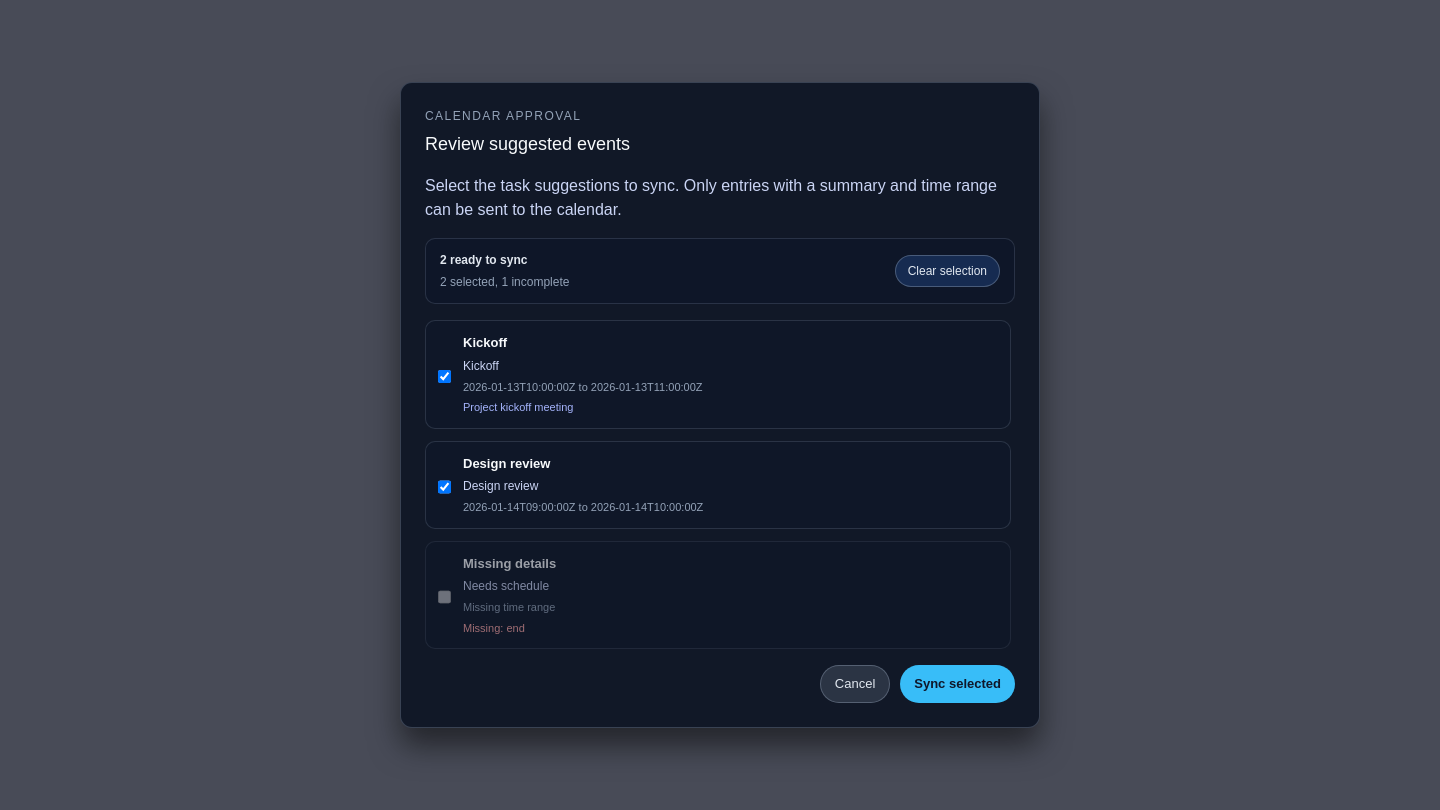
Test: CalendarSyncDialog › shows errors from sync failures
Click the button "Sync selected".
click(958, 684)  # box top-left (900, 665), bottom-right (1015, 703)
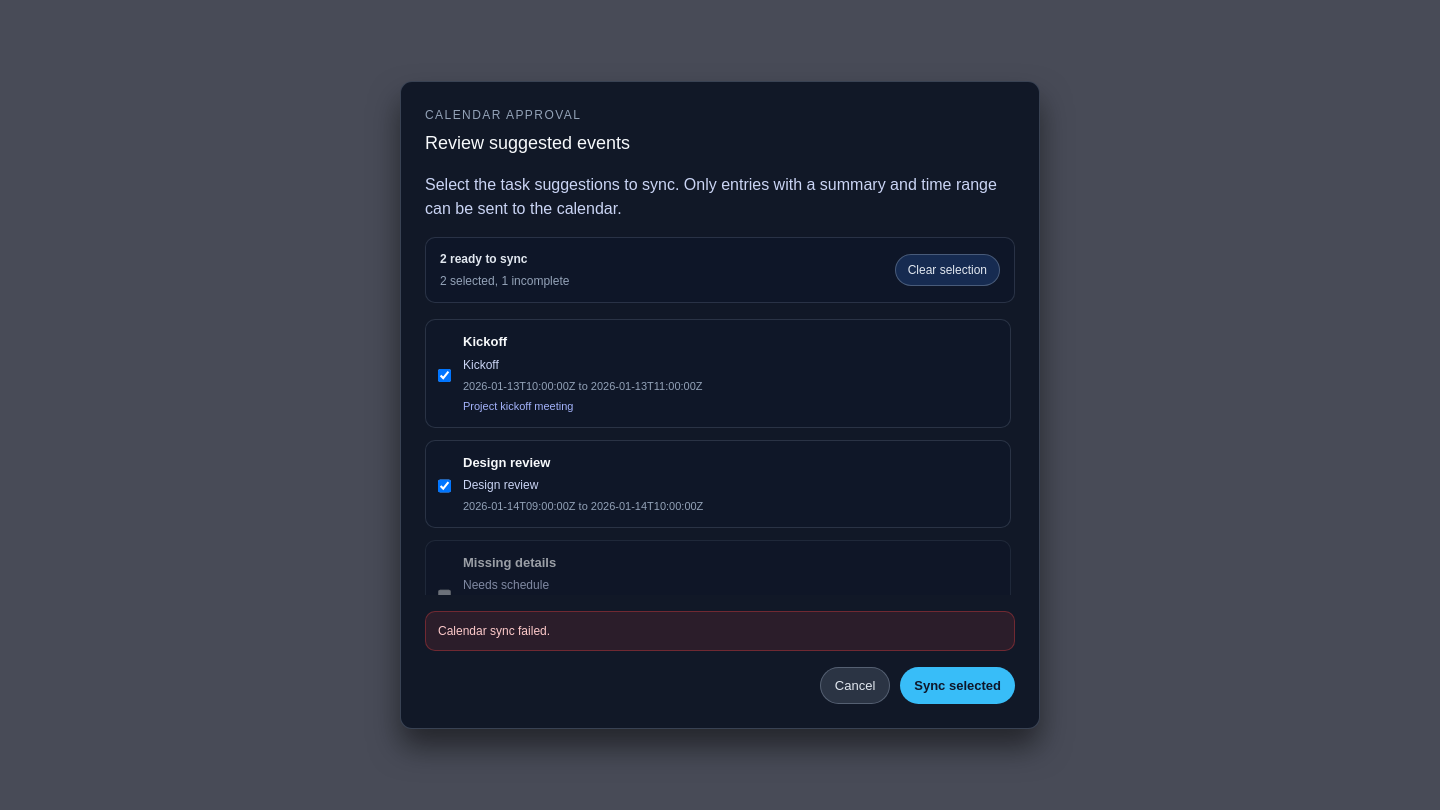
Expected: the message reads "Calendar sync failed.", top-left (438, 624), bottom-right (550, 638)
